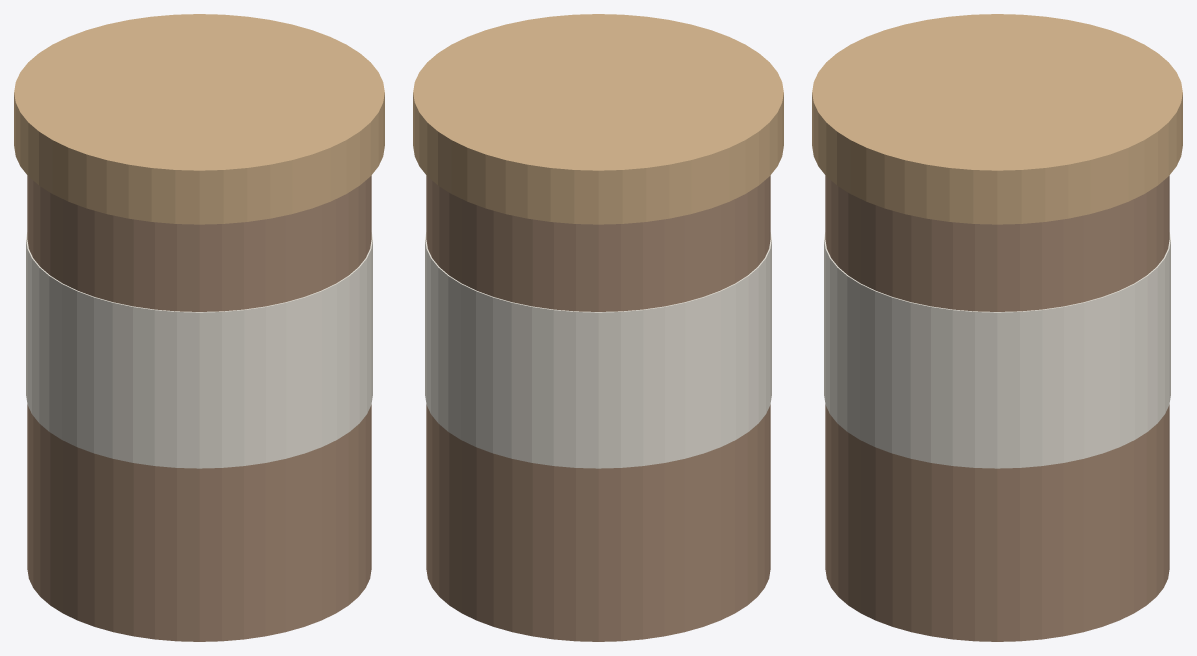
File: coffee-jar.glb
3 renders of one model, left to right at view 1: azimuth 30°, elevation 25°; view 2: azimuth 150°, elevation 25°; view 3: azimuth 270°, elevation 25°, orthographic.
Parts seen in each view (by area): view 1: body, lid, band; view 2: body, lid, band; view 3: body, lid, band.
Boxes of the visible parts, x1,y1,x2,y2 form: body: (27,175,371,641); lid: (14,14,384,224); band: (26,232,372,468); body: (426,175,770,641); lid: (413,14,783,224); band: (425,232,771,468); body: (825,175,1169,641); lid: (812,14,1182,224); band: (824,232,1170,468).
Bounding box in the file's own units: 0.28 × 0.3975 × 0.28.
